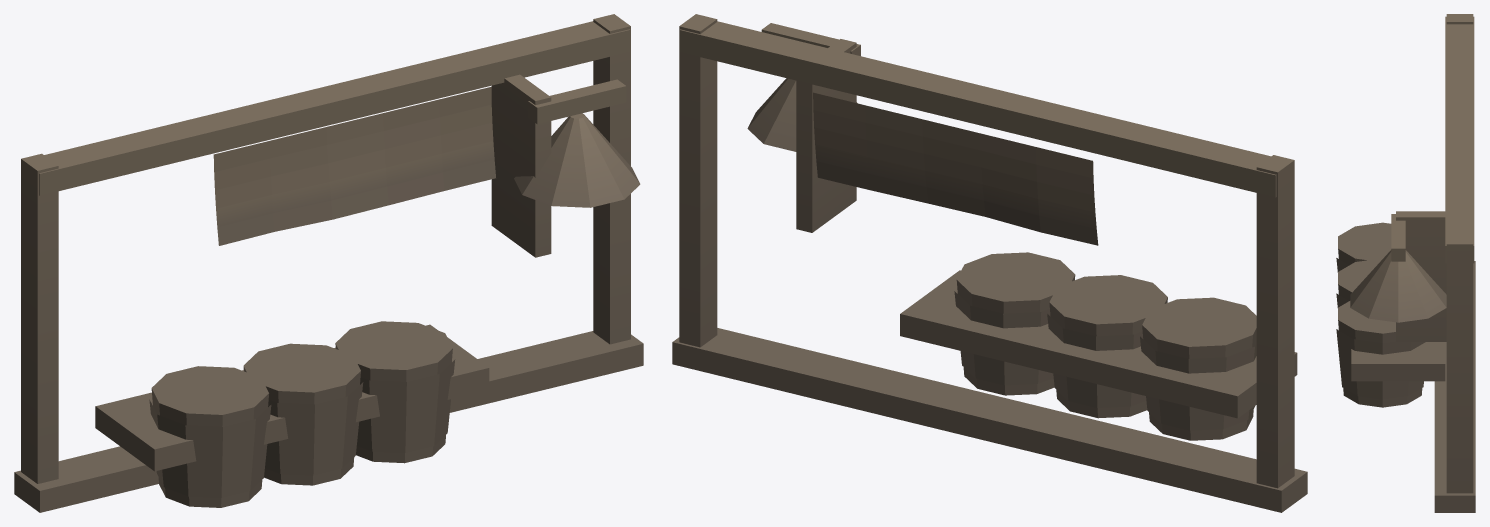
Rendered from facade_sake.glb.
The picture shows the model from 3 angles, left to right: view 1: azimuth 30°, elevation 25°; view 2: azimuth 150°, elevation 25°; view 3: azimuth 270°, elevation 25°; orthographic projection. The views are drawn at different scales.
Parts seen in each view (by area): view 1: facade_sake; view 2: facade_sake; view 3: facade_sake.
Boxes of the visible parts, x1,y1,x2,y2 form: facade_sake: (14,14,643,512); facade_sake: (672,14,1307,512); facade_sake: (1336,14,1475,512).
Size of the model in its own units: 4.6 by 2.44 by 1.16.
